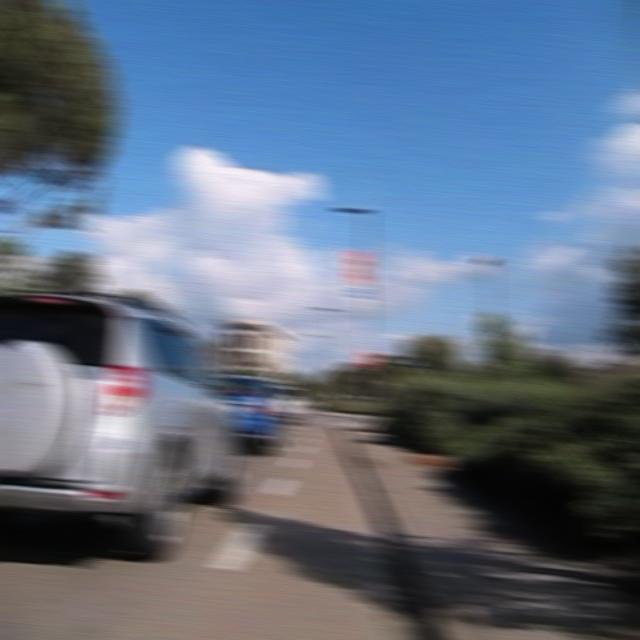stop_sign: (357, 350, 379, 370)
